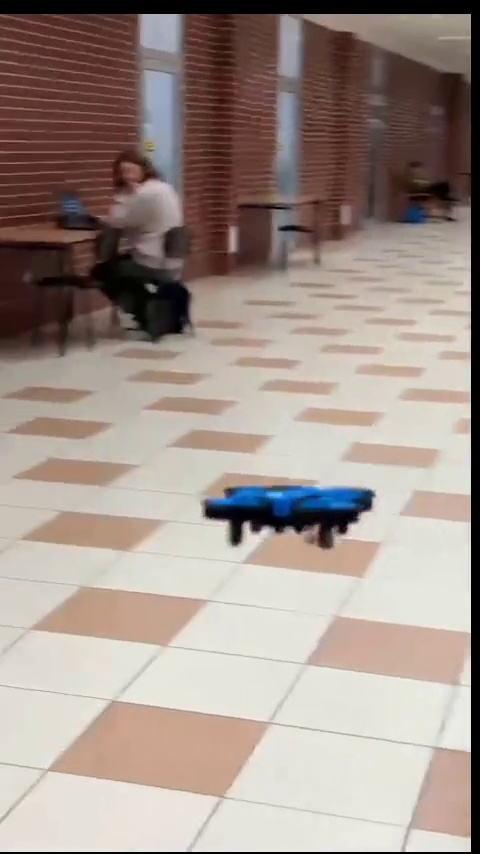drone: (205, 483, 377, 547)
no vest: (92, 150, 196, 344)
